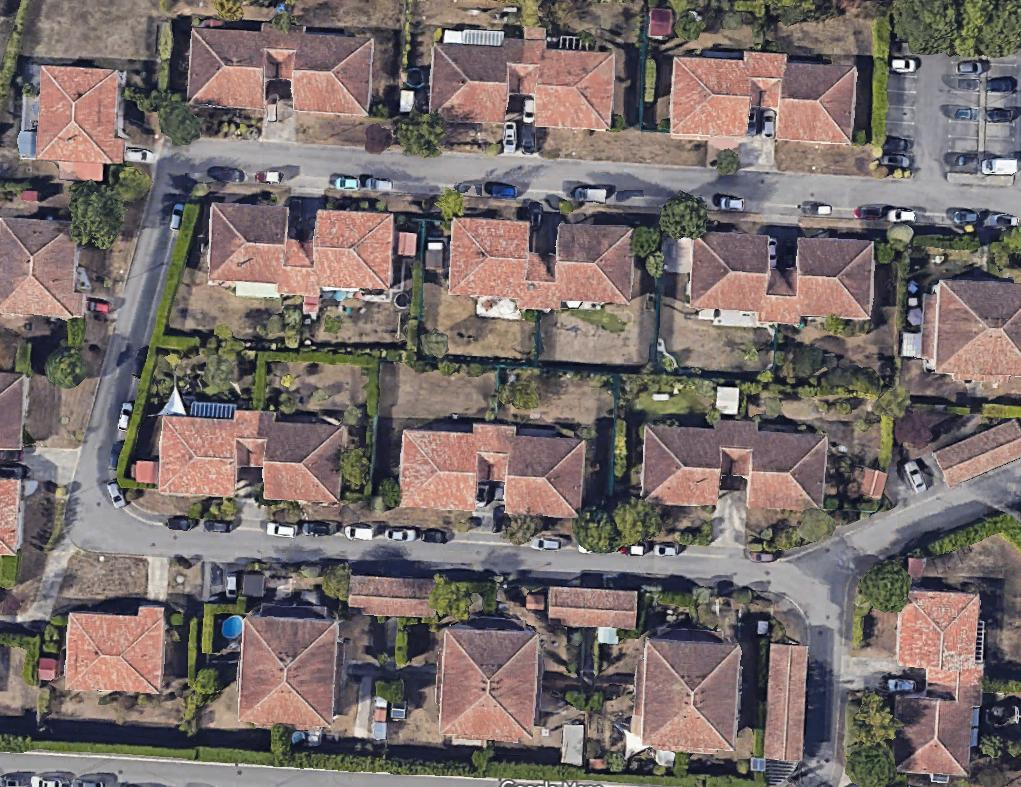maison: (666, 45, 858, 152), (427, 22, 615, 131), (185, 17, 376, 119), (397, 417, 587, 519), (205, 204, 396, 301), (447, 218, 635, 316), (688, 232, 875, 329), (156, 407, 346, 502), (893, 592, 985, 782), (642, 419, 828, 511), (428, 615, 548, 746), (628, 625, 746, 757), (236, 616, 344, 730), (34, 65, 129, 181), (922, 280, 1020, 381), (63, 607, 166, 694), (0, 218, 84, 319), (931, 417, 1021, 488), (766, 646, 805, 760), (348, 575, 436, 617), (548, 587, 635, 626), (0, 372, 27, 449), (0, 479, 21, 555)
